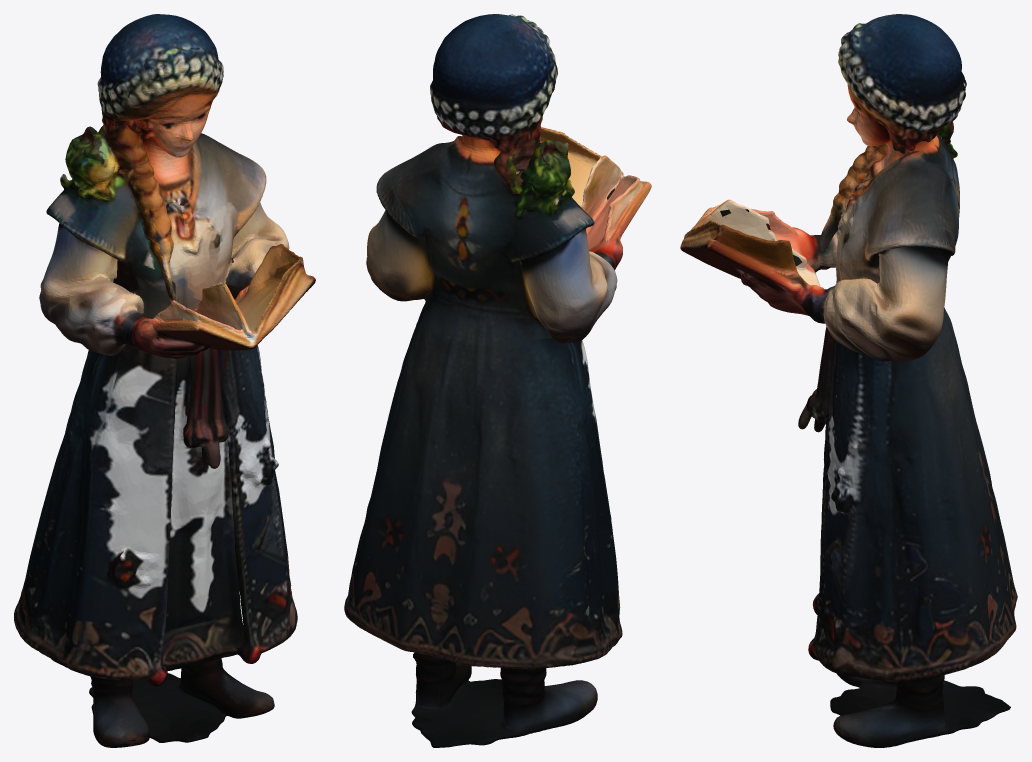
The model's file is vasilisa_paint.glb.
The picture shows the model from 3 angles, left to right: view 1: azimuth 30°, elevation 25°; view 2: azimuth 150°, elevation 25°; view 3: azimuth 270°, elevation 25°; orthographic projection.
Visible parts, largest first — view 1: temp_mesh.ply; view 2: temp_mesh.ply; view 3: temp_mesh.ply.
Boxes of the visible parts, x1=… form: temp_mesh.ply: x1=14, y1=14, x2=315, y2=747; temp_mesh.ply: x1=344, y1=14, x2=651, y2=747; temp_mesh.ply: x1=680, y1=14, x2=1017, y2=747.
Bounding box in the file's own units: 0.7448 × 1.97 × 0.8759.
1 material, 1 textured.
